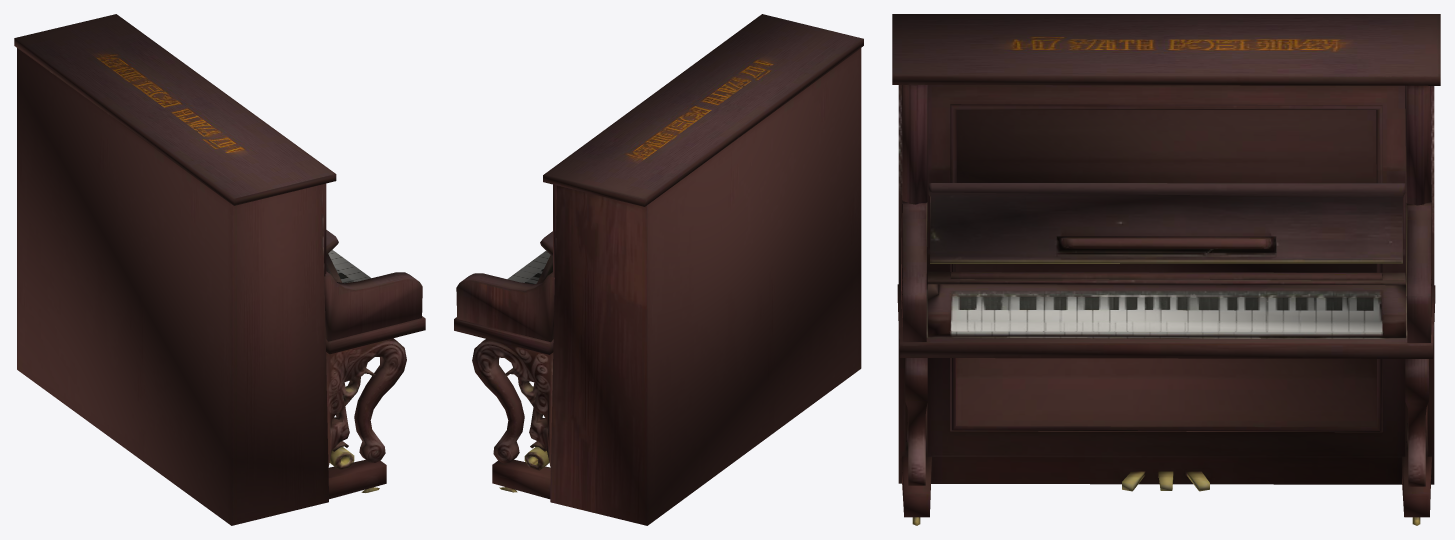
The model's file is Prop_Piano_Body.glb.
3 views of the same model, side by side, from view 1: azimuth 30°, elevation 25°; view 2: azimuth 150°, elevation 25°; view 3: azimuth 270°, elevation 25° (orthographic). The views are drawn at different scales.
Parts seen in each view (by area): view 1: tripo_node_df159cda-f906-4c26-b45f-c86153b3d0e7; view 2: tripo_node_df159cda-f906-4c26-b45f-c86153b3d0e7; view 3: tripo_node_df159cda-f906-4c26-b45f-c86153b3d0e7.
Boxes of the visible parts, left/top/right/bottom form: tripo_node_df159cda-f906-4c26-b45f-c86153b3d0e7: left=14, top=14, right=425, bottom=525; tripo_node_df159cda-f906-4c26-b45f-c86153b3d0e7: left=454, top=14, right=863, bottom=525; tripo_node_df159cda-f906-4c26-b45f-c86153b3d0e7: left=892, top=14, right=1440, bottom=525.
Size of the model in its own units: 0.7301 by 1.2 by 1.43.
Materials: 1 (1 with a texture image).
